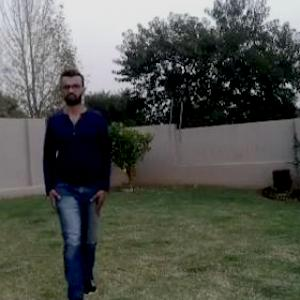follow: (48, 88, 108, 276)
